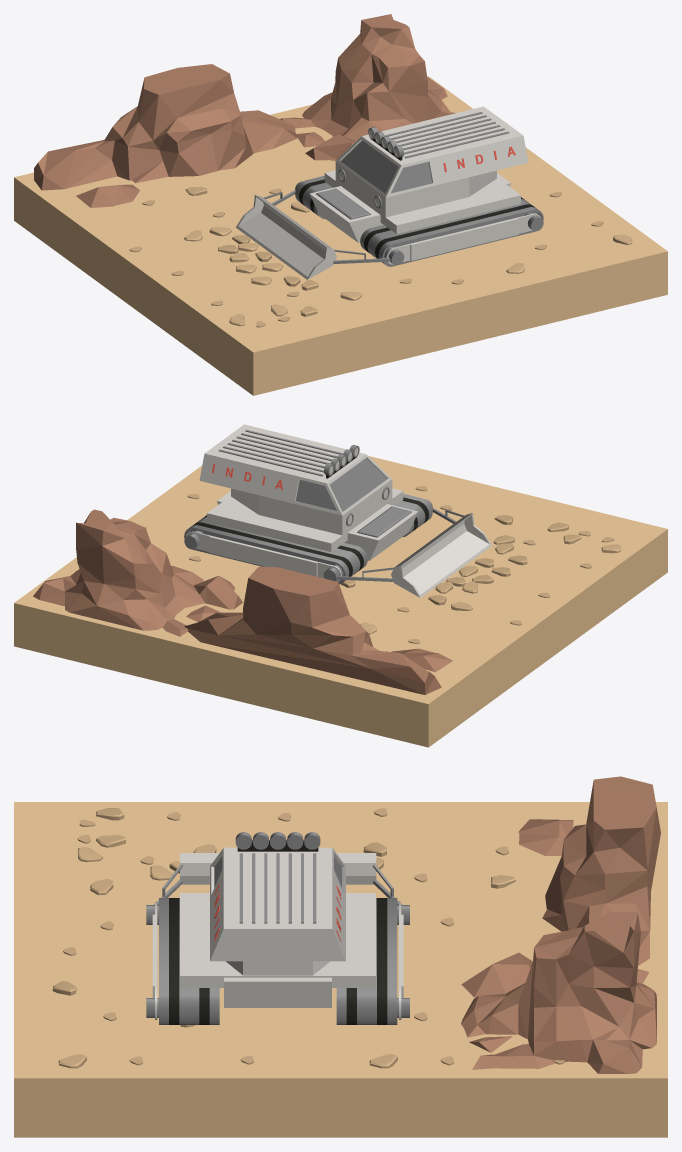
The model's file is 00 Space_16.FBX.
The picture shows the model from 3 angles, top to bottom: view 1: azimuth 30°, elevation 25°; view 2: azimuth 150°, elevation 25°; view 3: azimuth 270°, elevation 25°; orthographic projection. The views are drawn at different scales.
Visible parts, largest first — view 1: Box001, Box010, Space_16, Mountain_desert_001; view 2: Box001, Box010, Space_16, Mountain_desert_001; view 3: Box001, Box010, Mountain_desert_001, Space_16.
Boxes of the visible parts, x1,y1,x2,y2 form: Box001: [14, 76, 667, 395]; Box010: [235, 106, 543, 279]; Space_16: [34, 64, 296, 207]; Mountain_desert_001: [280, 14, 455, 161]; Box001: [14, 456, 667, 747]; Box010: [184, 424, 491, 597]; Space_16: [184, 566, 452, 694]; Mountain_desert_001: [33, 509, 242, 636]; Box001: [14, 802, 667, 1137]; Box010: [146, 832, 409, 1024]; Mountain_desert_001: [461, 912, 656, 1073]; Space_16: [518, 776, 660, 965].
Size of the model in its own units: 10000 by 3044 by 10000.
